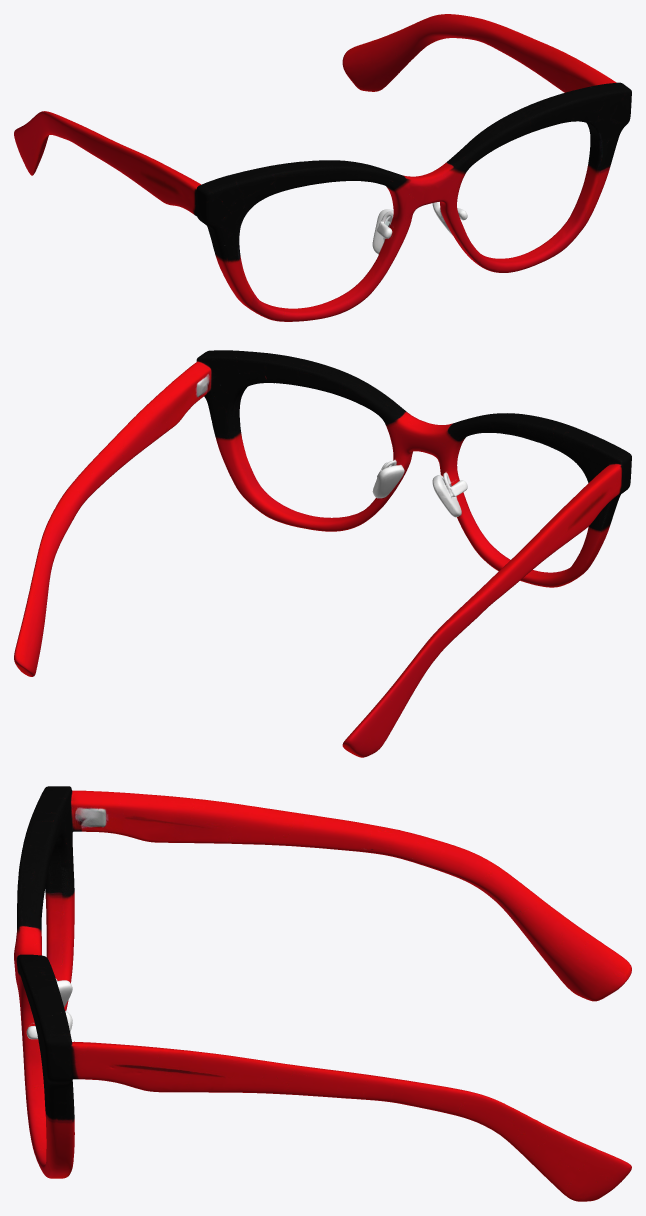
File: Cardinal.glb
3 renders of one model, top to bottom at view 1: azimuth 30°, elevation 25°; view 2: azimuth 150°, elevation 25°; view 3: azimuth 270°, elevation 25°, orthographic. The views are drawn at different scales.
Bounding box in the file's own units: 1.87 × 0.6692 × 1.9.
Materials: 1 (1 with a texture image).
